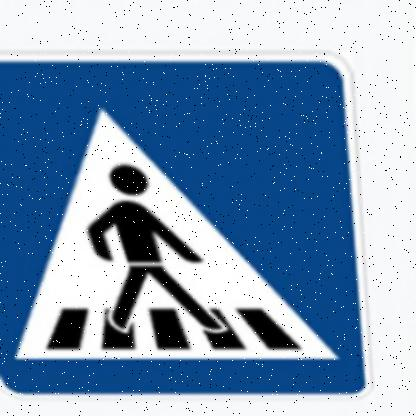Pedestrian Crossing: (1, 51, 372, 404)
